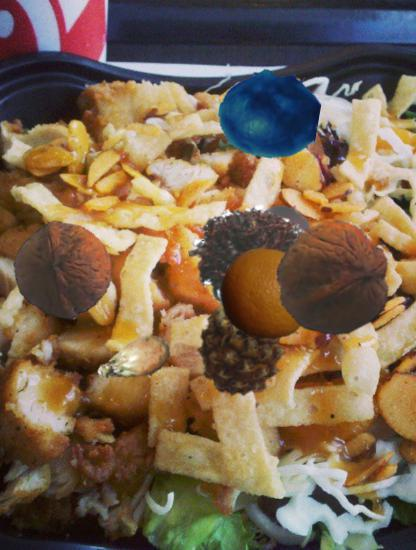Cactus: (95, 321, 172, 398)
Huckleberry: (219, 64, 319, 164)
Orange: (219, 246, 315, 342)
Passion: (254, 202, 314, 262)
Pineapple: (188, 292, 298, 402)
Rambutan: (191, 197, 309, 315)
Walnut: (274, 220, 392, 338), (13, 220, 113, 320)
